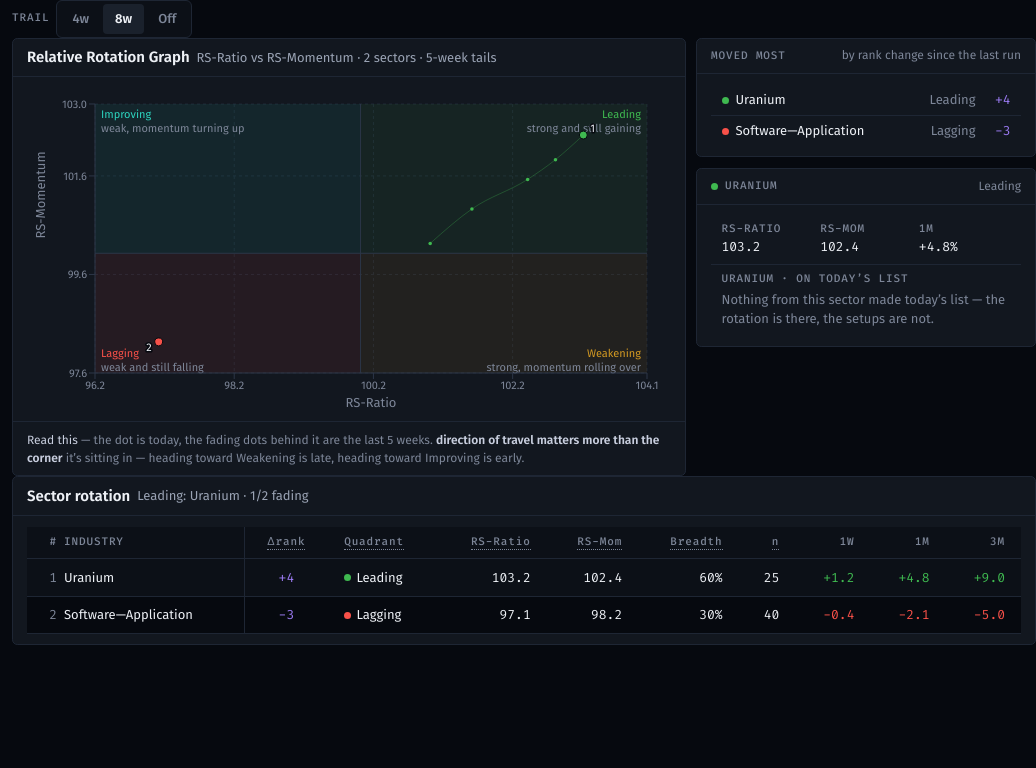
it: RotationView — trail length › stops announcing tails once they are off
Check: the text "RS-Ratio vs RS-Momentum · 2 sectors · 5-week tails" is shown, box [197,48,497,67]
Click the radio button labelled "Off" at x=167, y=19, box [146,4,188,34]
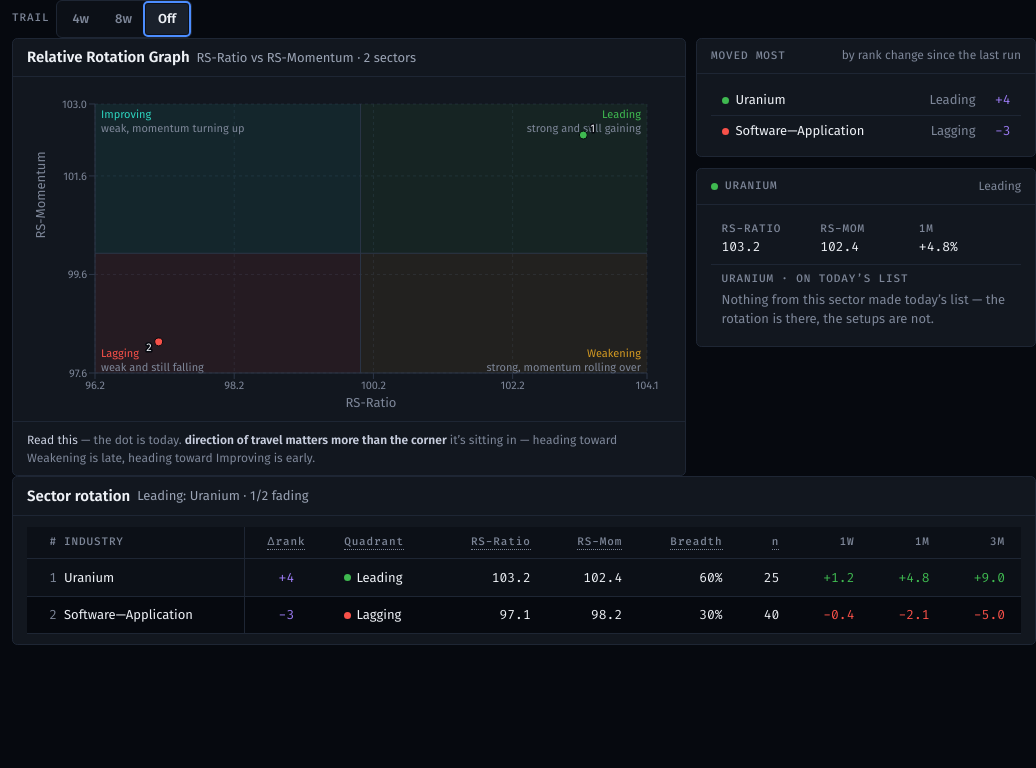
Check: the text "week tails" is gone
